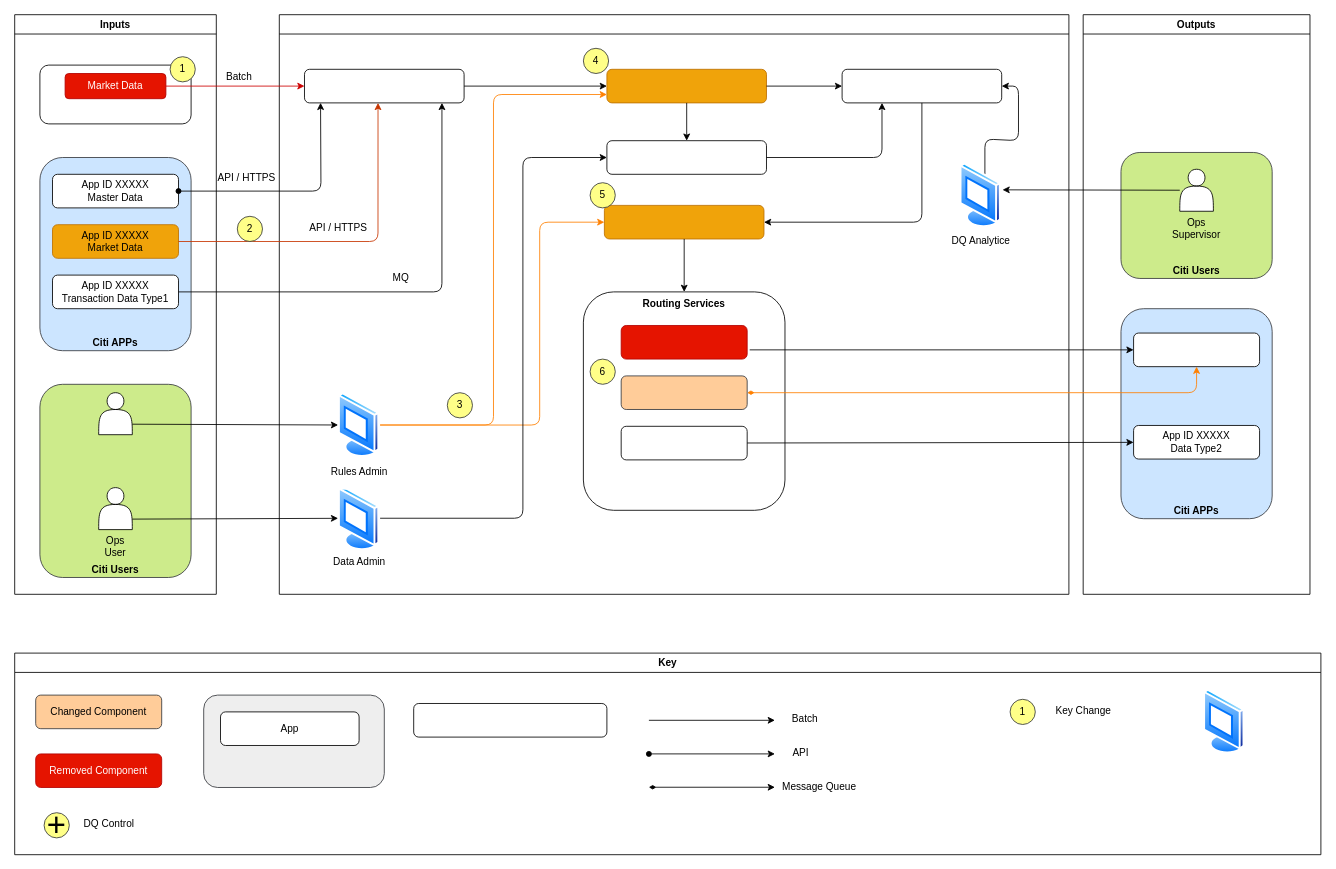
The diagram is 1336 pixels wide and 869 high, and some of its shapes have lost their labels. Here are the shapes that lost their labels. From the top down, the box of each, then its label:
(39, 64, 191, 124): External Provider
(304, 68, 464, 103): Data / ETL
(606, 68, 766, 103): Validation Services
(841, 68, 1002, 103): Pre-Processing
(606, 140, 766, 174): Exception Queue
(604, 205, 764, 239): Business Rules Engine
(278, 14, 1069, 594): Processing - App ID xxxxxx
(620, 325, 747, 359): Batch Comp
(1133, 332, 1260, 367): App ID XXXXX Data Type1
(620, 375, 747, 410): MQ Comp
(98, 392, 132, 435): Admin User
(620, 425, 747, 460): API Pub.
(413, 703, 607, 737): Component
(1203, 689, 1245, 753): User Interface
(203, 694, 384, 788): App Grouping
